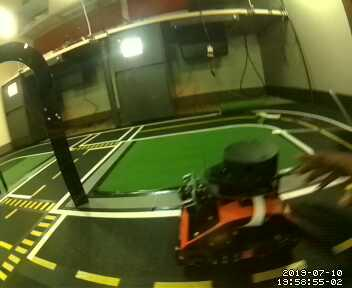pheeno: (178, 136, 299, 259)
